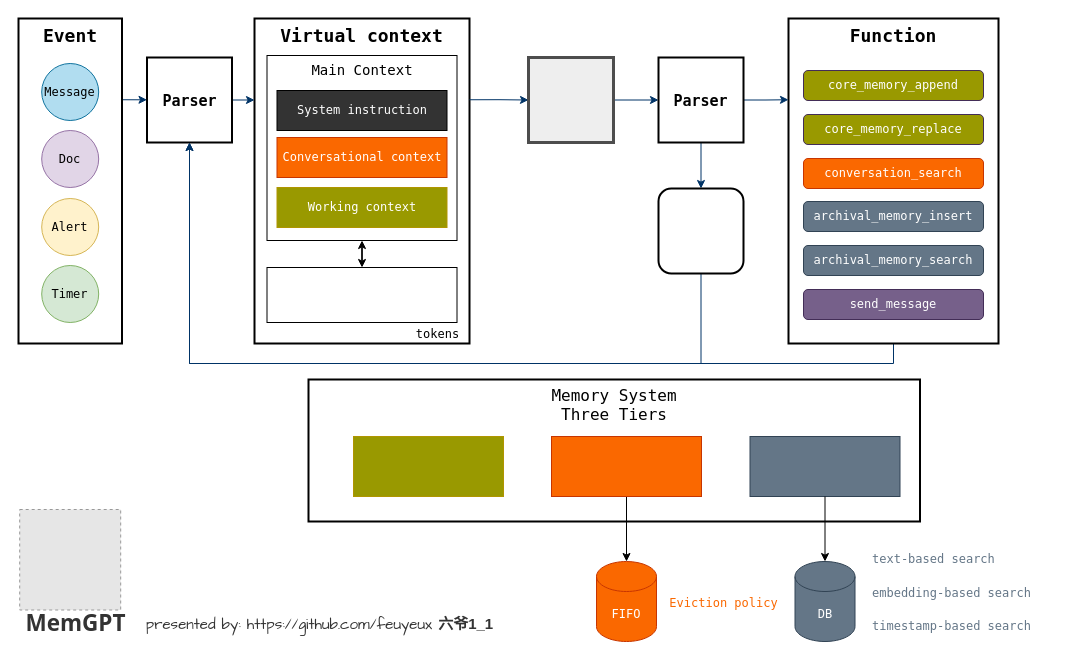
Some shapes in this 1067 by 671 pixel diagram are drawn without their labels. Grey dashed boxes stand in for pictures. Each missing label, with the centre of its shape:
Archival Storage: (x=824, y=466)
Core Memory (Persona): (x=428, y=466)
External Context: (x=361, y=294)
LLM: (x=570, y=100)
Recall Storage (Conversation History): (x=626, y=466)
Yield: (x=700, y=230)
